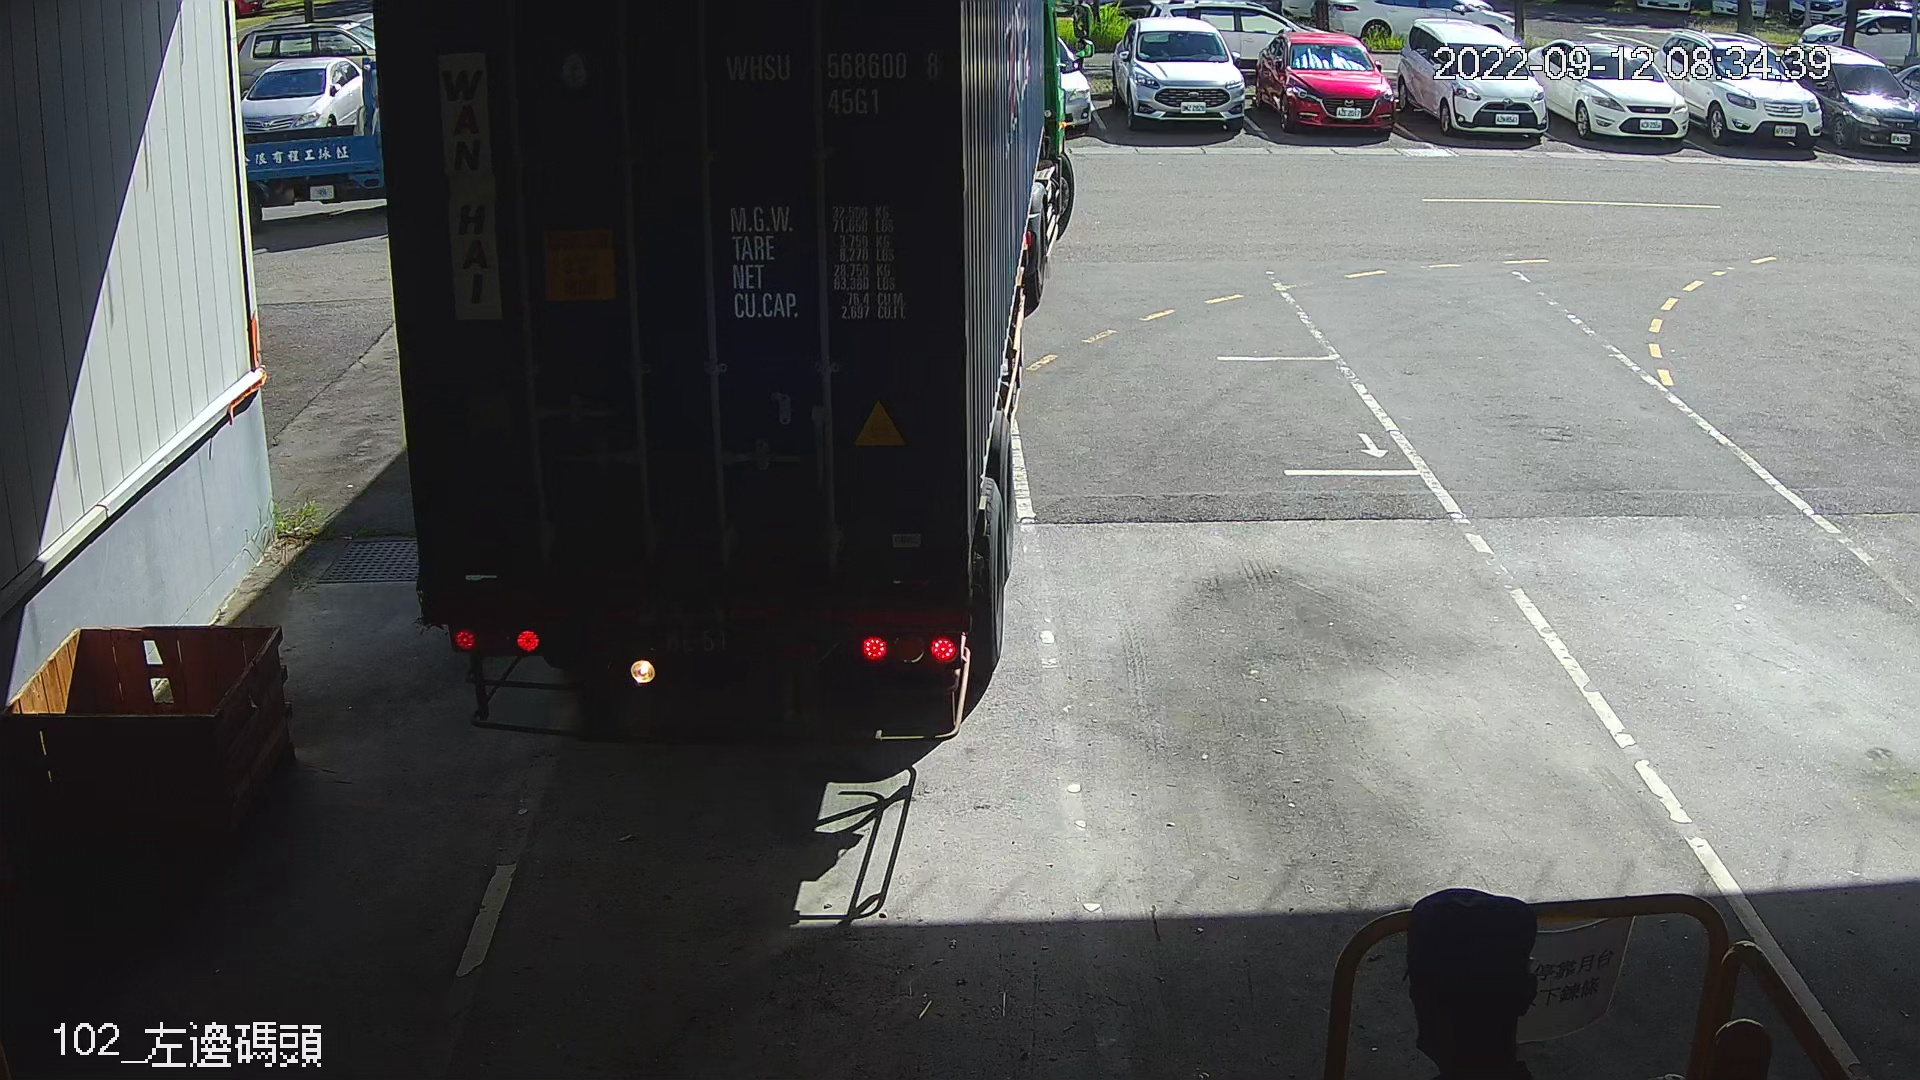container: (713, 36, 949, 124)
